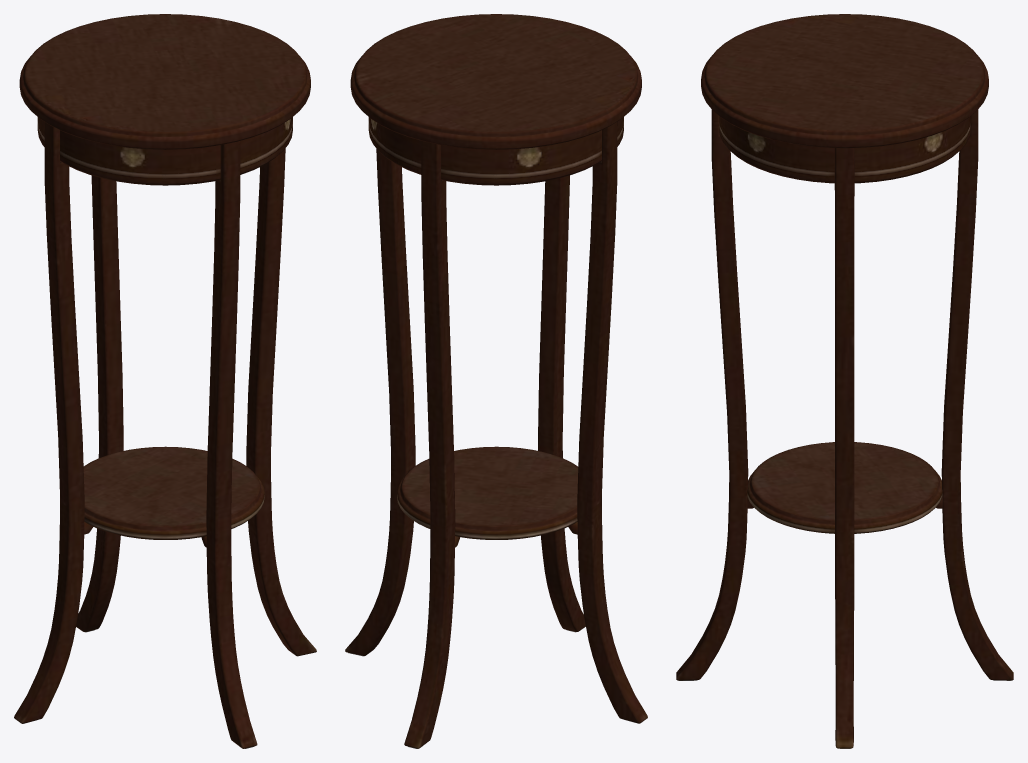
Rendered from tall-table.glb.
3 renders of one model, left to right at view 1: azimuth 30°, elevation 25°; view 2: azimuth 150°, elevation 25°; view 3: azimuth 270°, elevation 25°, orthographic.
Visible parts, largest first — view 1: side_table_tall_01; view 2: side_table_tall_01; view 3: side_table_tall_01.
Boxes of the visible parts, x1=… form: side_table_tall_01: x1=14, y1=14, x2=316, y2=748; side_table_tall_01: x1=345, y1=14, x2=647, y2=748; side_table_tall_01: x1=676, y1=14, x2=1013, y2=748.
Size of the model in its own units: 0.384 by 0.7612 by 0.384.
1 material, 1 textured.
